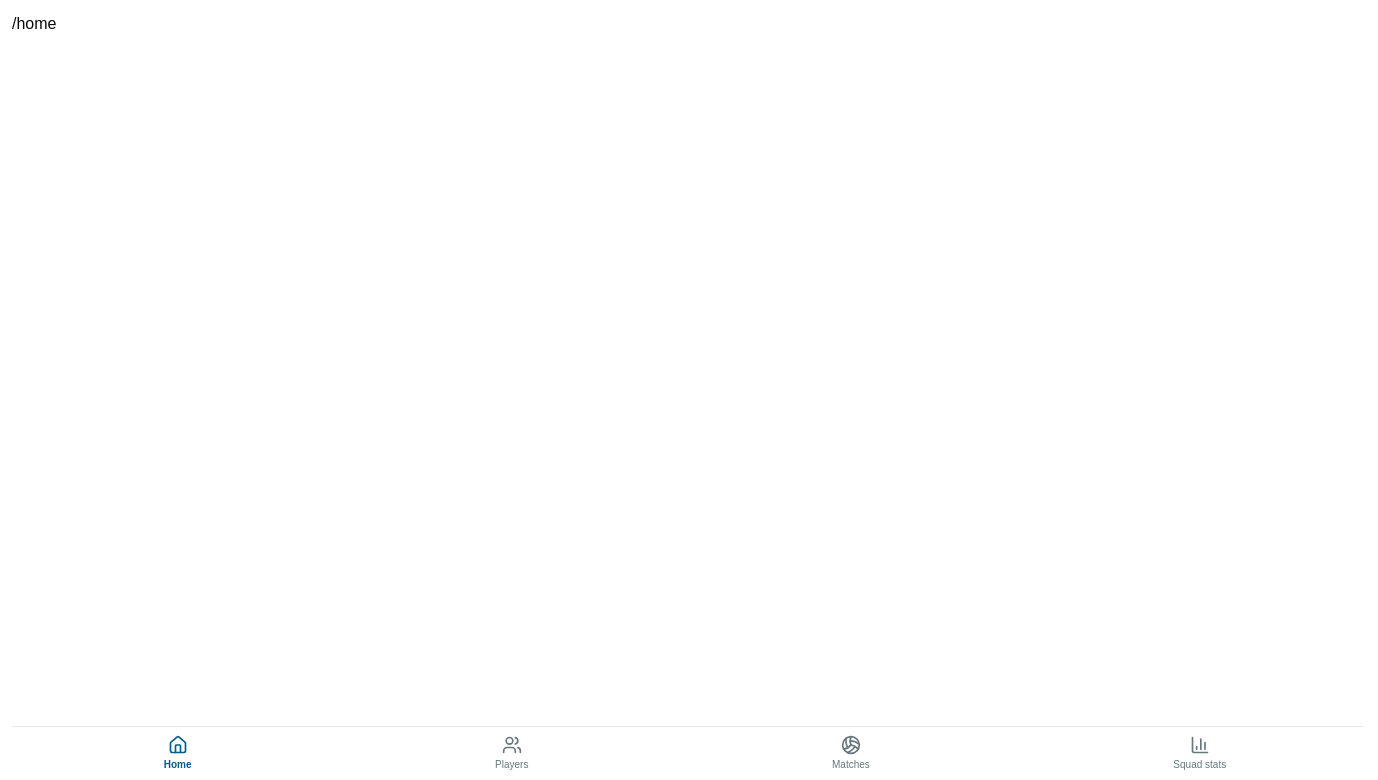
Test: switches tabs on click
The image size is (1378, 780).
Expected: the heading "/home" is shown, [12, 15, 56, 32]
Click the link "Squad stats": [1200, 752] box [1173, 735, 1226, 770]
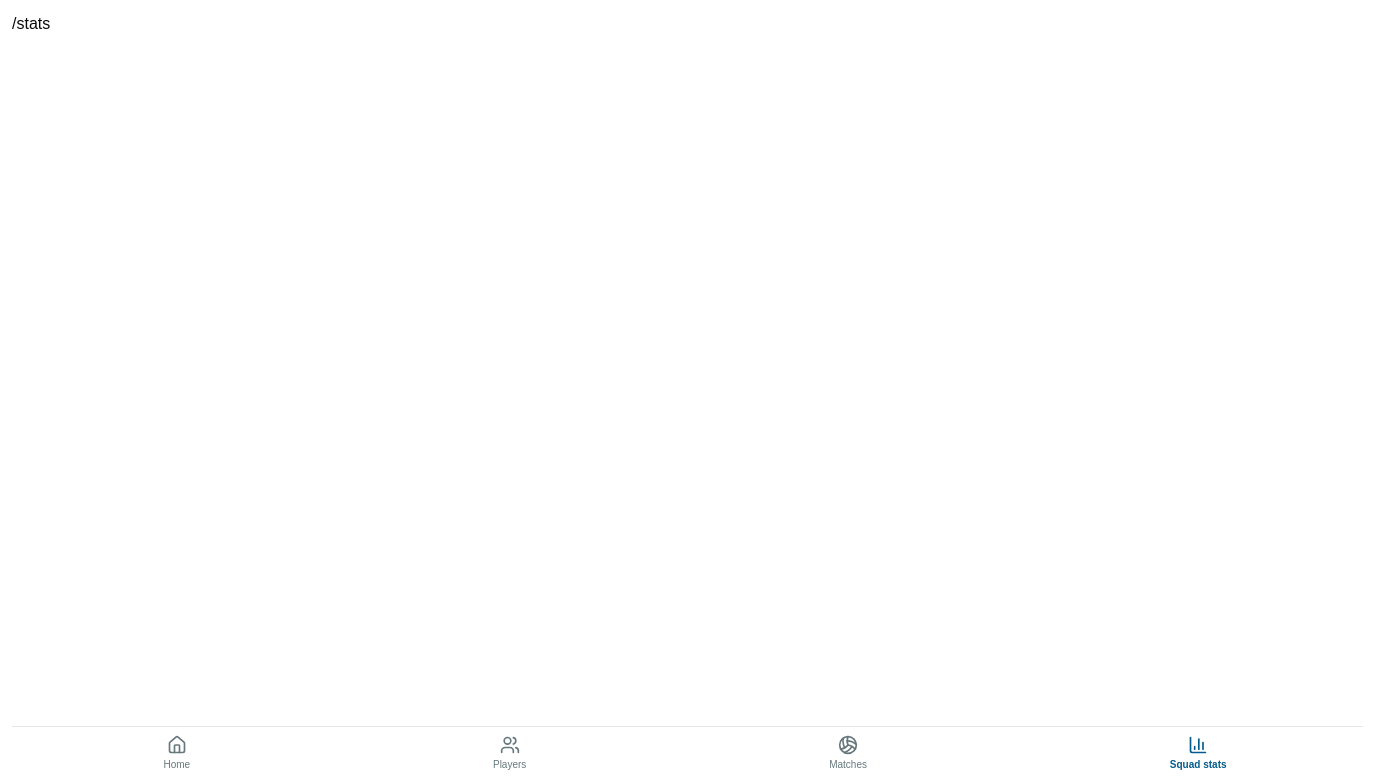
Now the heading "/stats" is shown, box [12, 15, 50, 32]
